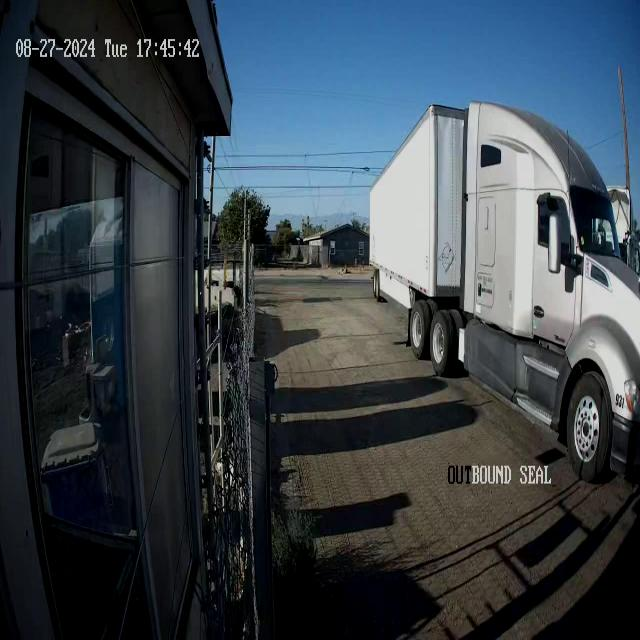CONTAINER: (369, 98, 468, 290)
